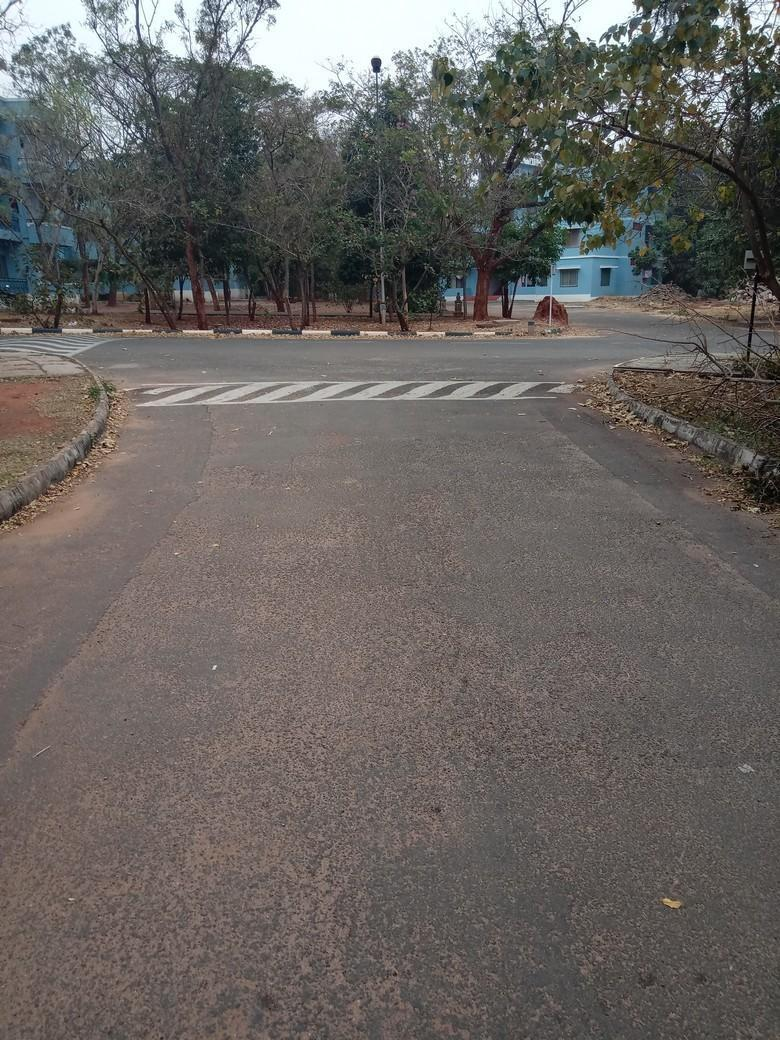speedbreaker: (111, 366, 592, 408)
